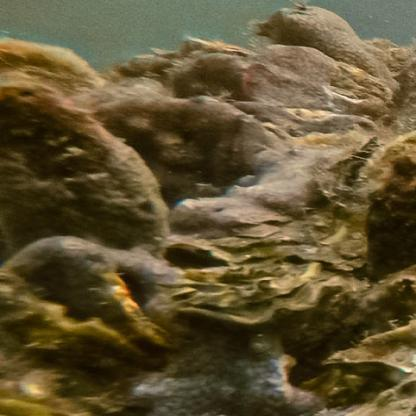3: (173, 260, 324, 318), (0, 39, 97, 94)
Oyster-Closed: (0, 84, 170, 271)
Oyster-Open: (90, 93, 283, 215), (259, 46, 398, 113), (366, 155, 416, 279)
